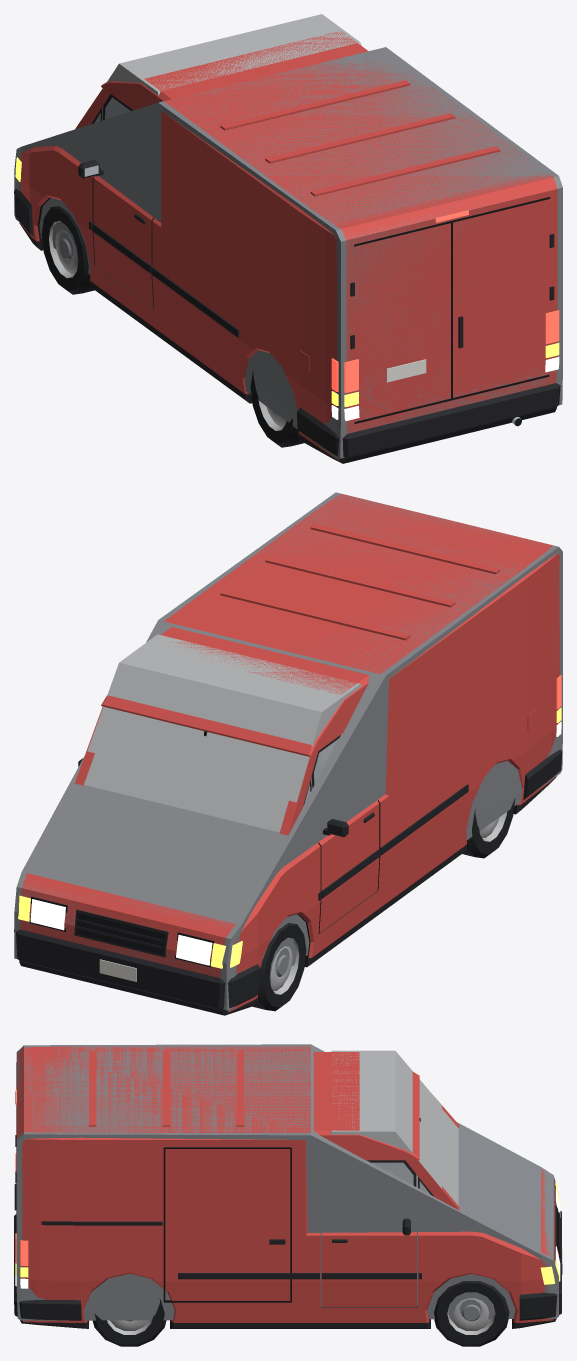
File: car_van.glb
3 renders of one model, top to bottom at view 1: azimuth 30°, elevation 25°; view 2: azimuth 150°, elevation 25°; view 3: azimuth 270°, elevation 25°, orthographic. The views are drawn at different scales.
Visible parts, largest first — view 1: car_van__body, car_van__col_body, car_van__col_cabin, car_van__door_fl, car_van__wheel_fl, car_van__wheel_rl; view 2: car_van__body, car_van__col_body, car_van__col_cabin, car_van__door_fl, car_van__wheel_fl, car_van__wheel_rl; view 3: car_van__body, car_van__col_body, car_van__col_cabin, car_van__door_fr, car_van__wheel_fr, car_van__wheel_rr.
Part boxes in pixels (box(x1,y1,x2,y2)): car_van__body: box(14, 31, 560, 463); car_van__col_body: box(14, 47, 562, 459); car_van__col_cabin: box(94, 14, 361, 122); car_van__door_fl: box(78, 94, 153, 307); car_van__wheel_fl: box(41, 206, 94, 294); car_van__wheel_rl: box(250, 371, 303, 447); car_van__body: box(14, 494, 562, 1015); car_van__col_body: box(14, 492, 562, 1010); car_van__col_cabin: box(84, 634, 361, 832); car_van__door_fl: box(311, 735, 380, 933); car_van__wheel_fl: box(252, 923, 306, 1011); car_van__wheel_rl: box(462, 798, 515, 858); car_van__body: box(14, 1046, 562, 1328); car_van__col_body: box(16, 1044, 558, 1320); car_van__col_cabin: box(330, 1050, 458, 1205); car_van__door_fr: box(321, 1160, 416, 1306); car_van__wheel_fr: box(434, 1281, 509, 1346); car_van__wheel_rr: box(93, 1299, 166, 1346).
Size of what is drawn, in the model's own units: 2.4 by 2.26 by 5.2.
Materials: 9 (2 with a texture image).
